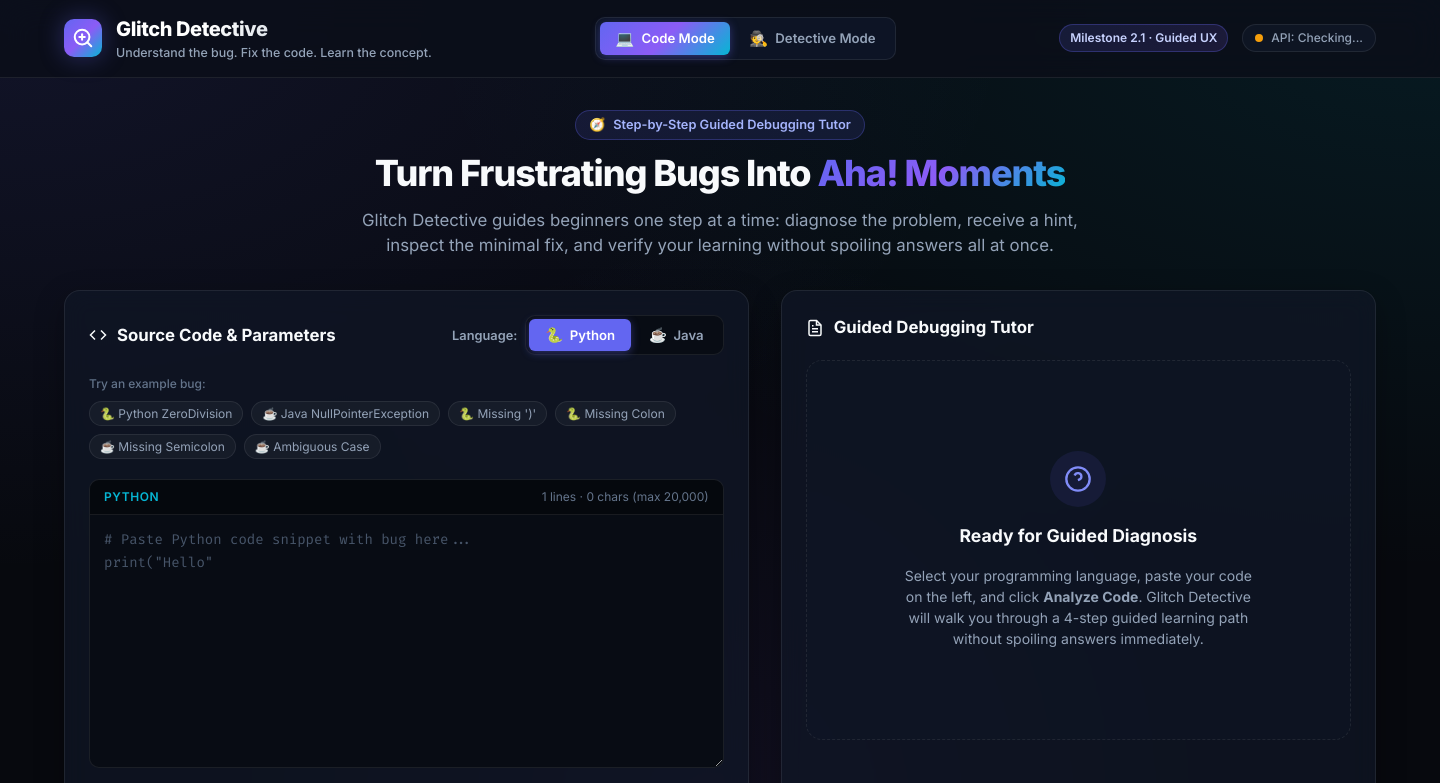
Test: Phase 3: Detective Mode UX & Challenge Engine Integration › never exposes canonical solutions in the DOM
What coordinates should you click on to do the following:
click the tab "🕵️ Detective Mode"
I would click on:
 (812, 38)
Its box is x1=734 y1=22 x2=891 y2=55.
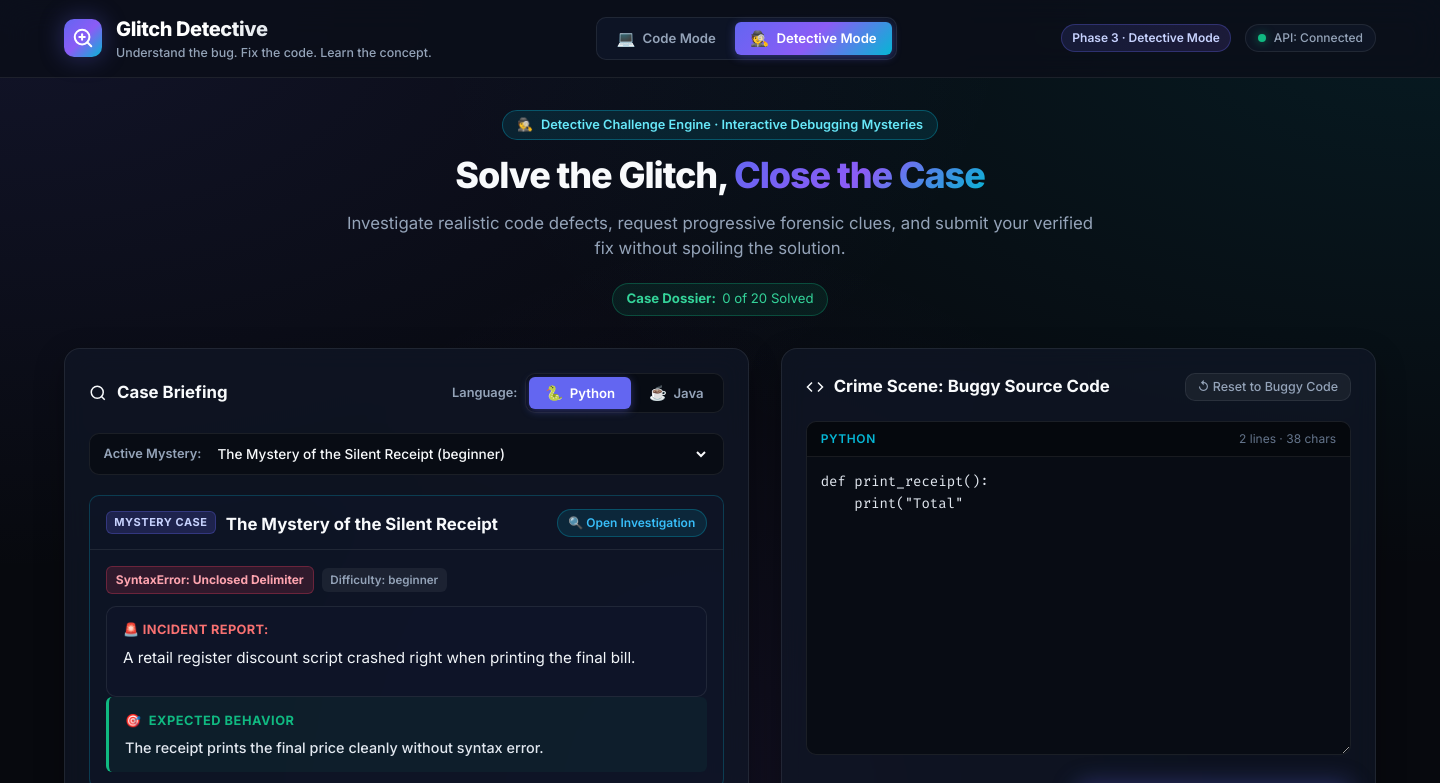
Expected: the heading "The Mystery of the Silent Receipt" is shown, x1=226 y1=512 x2=498 y2=537
